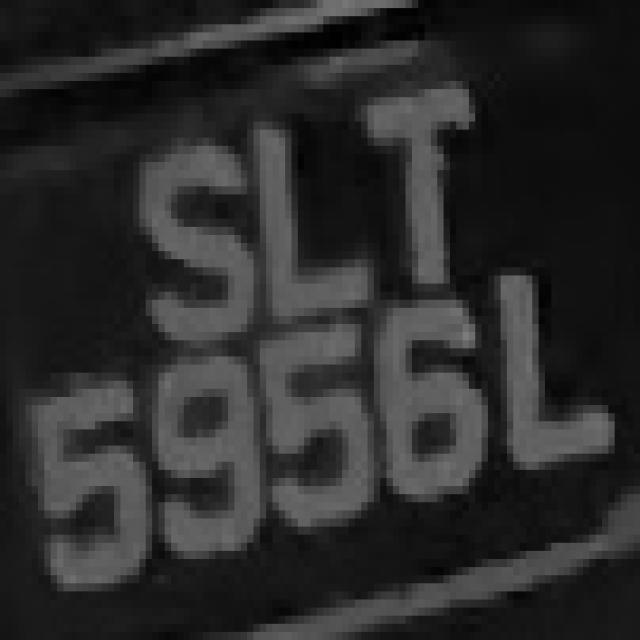5: (25, 357, 158, 616), (260, 292, 380, 526)
6: (367, 243, 469, 535)
9: (127, 324, 253, 575)
L: (488, 235, 634, 478), (228, 105, 374, 324)
S: (108, 146, 253, 348)
T: (336, 73, 507, 275)
